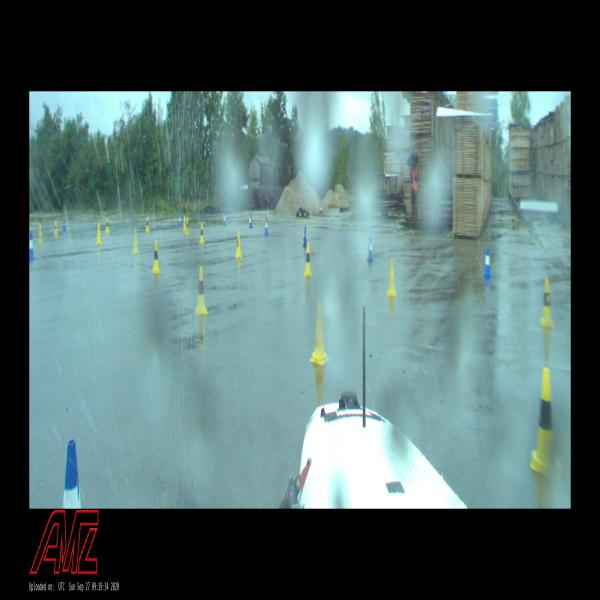blue_cone: (483, 246, 492, 280), (29, 231, 36, 261), (367, 236, 374, 262), (302, 226, 308, 247), (264, 217, 268, 234), (178, 213, 182, 227), (62, 218, 66, 231), (249, 213, 252, 228), (223, 212, 226, 226)
yellow_cone: (529, 367, 561, 478), (310, 299, 329, 366), (539, 278, 554, 328), (194, 265, 208, 315), (387, 256, 396, 297), (151, 241, 161, 275), (304, 243, 312, 277), (235, 231, 242, 258), (132, 228, 139, 254), (199, 222, 205, 244), (96, 222, 102, 244), (38, 224, 42, 244), (105, 217, 110, 232), (54, 220, 58, 235), (145, 217, 149, 232), (186, 218, 189, 235), (183, 216, 186, 231)
